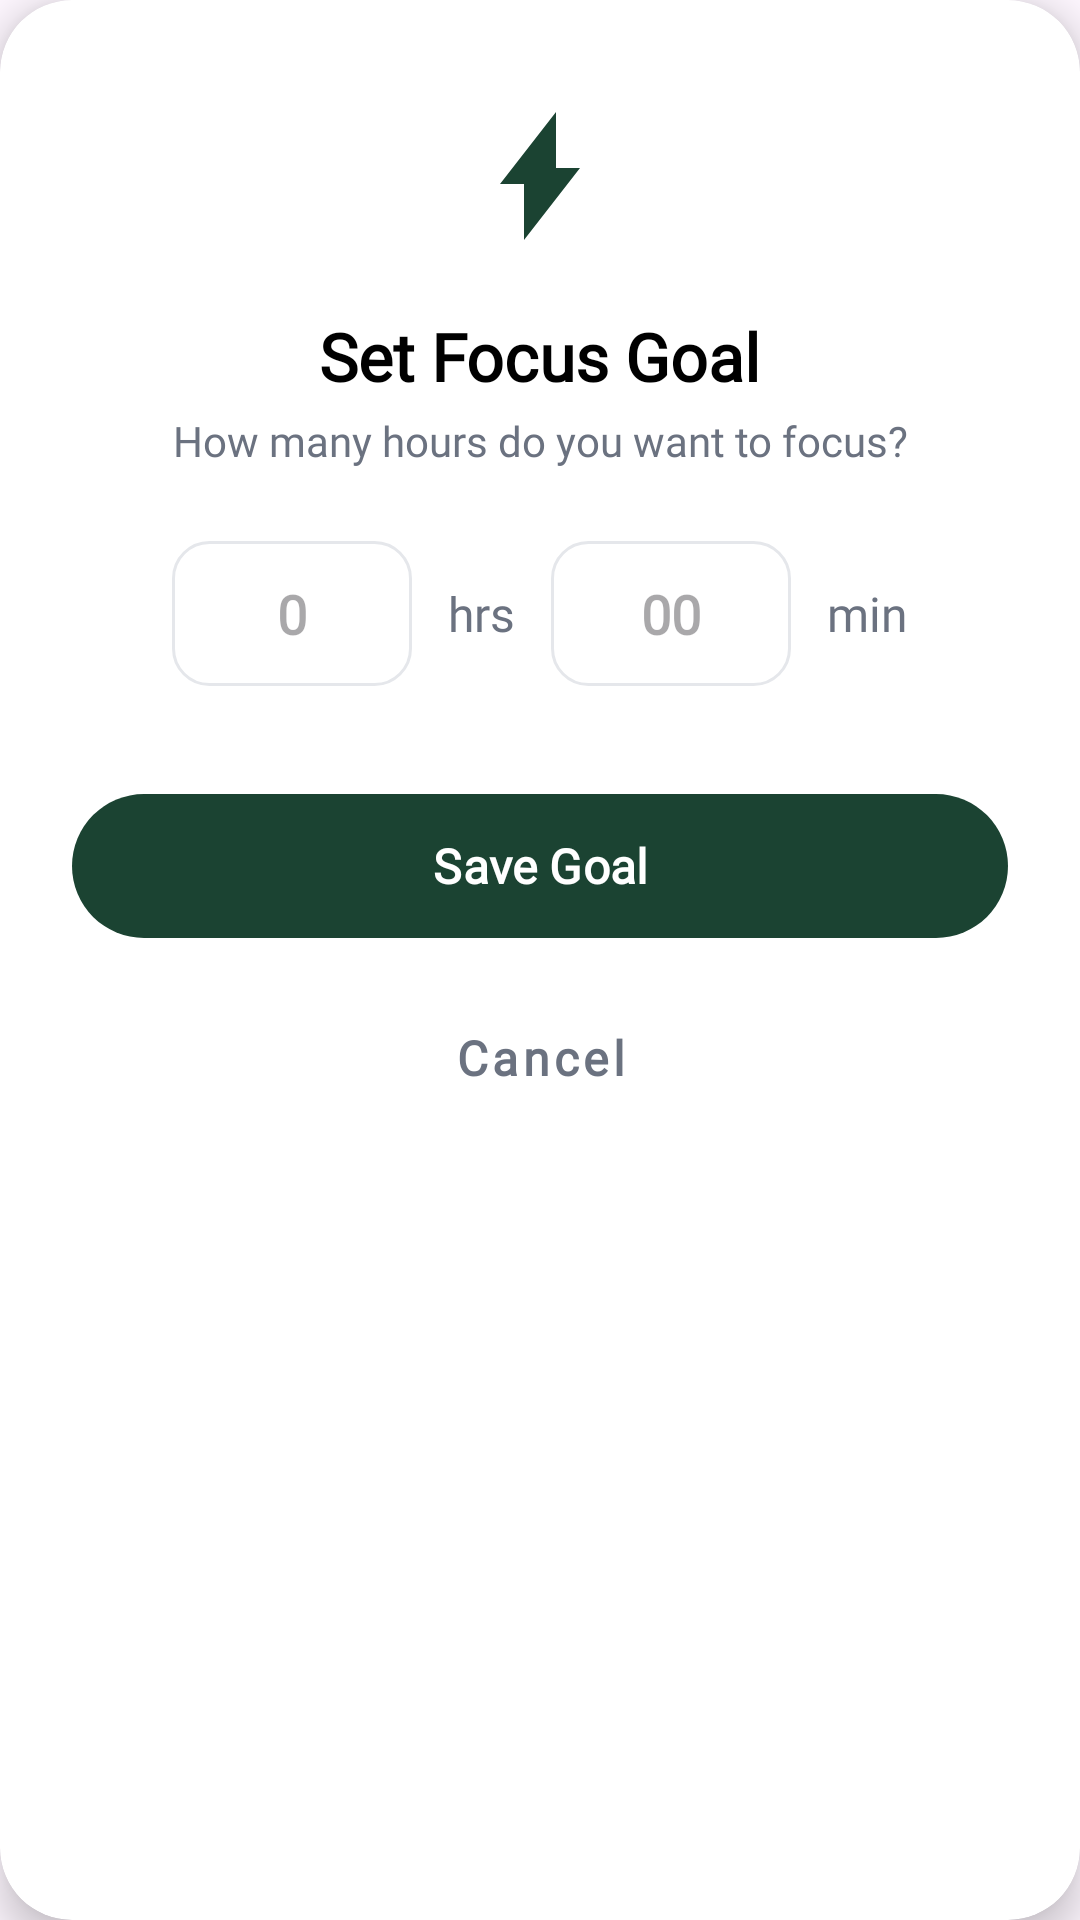

Named icons in this screenshot (1080*1920) and their bounding boxes, (x1, y1, x2, y2):
lightning: (500, 112, 580, 240)
